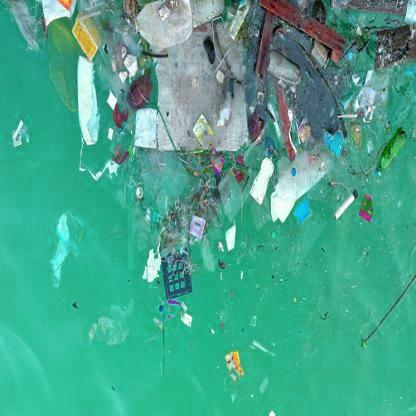Plastic: (74, 50, 97, 146), (375, 128, 408, 179), (249, 154, 277, 202), (264, 55, 301, 88)
